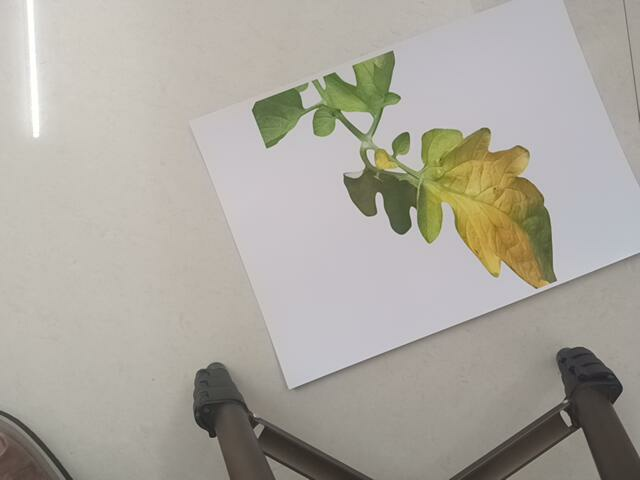Tomamto_Yellow_Disease: (227, 53, 574, 293)
